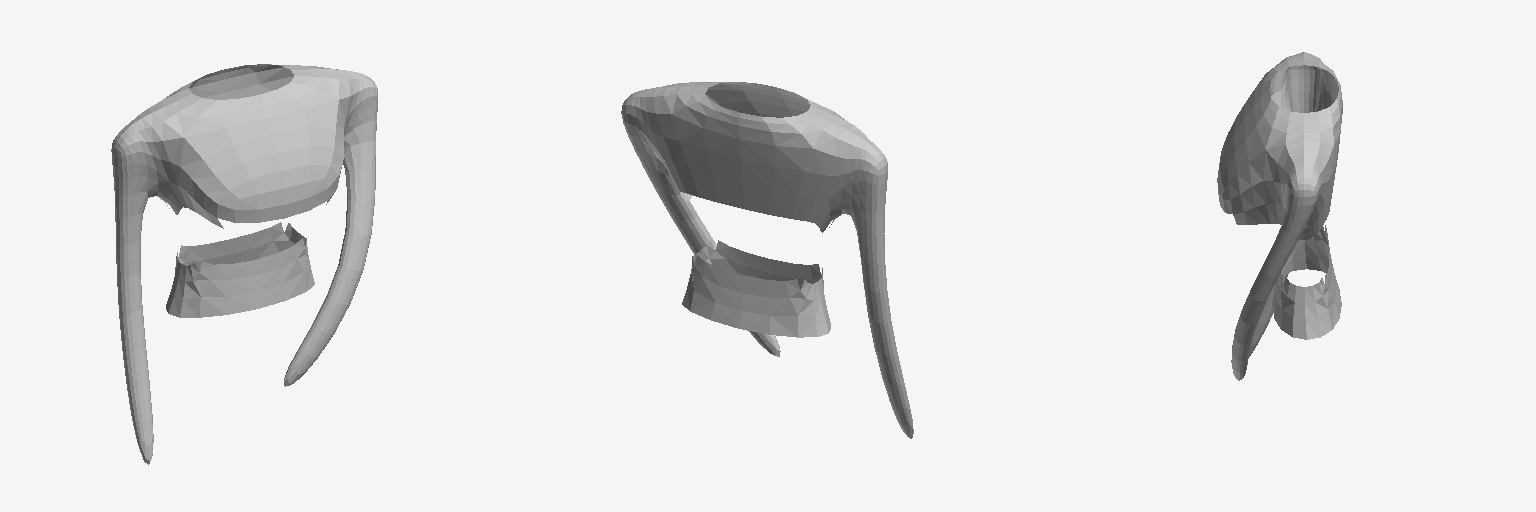
File: CharaYelowKoft.obj
3 views of the same model, side by side, from view 1: azimuth 30°, elevation 25°; view 2: azimuth 150°, elevation 25°; view 3: azimuth 270°, elevation 25° (orthographic).
Parts seen in each view (by area): view 1: Cube_Cube.001; view 2: Cube_Cube.001; view 3: Cube_Cube.001.
Part boxes in pixels (left/top/right/bottom): Cube_Cube.001: left=111, top=64, right=377, bottom=464; Cube_Cube.001: left=621, top=82, right=913, bottom=438; Cube_Cube.001: left=1217, top=52, right=1342, bottom=380.
Bounding box in the file's own units: 0.7028 × 0.8433 × 0.2892.